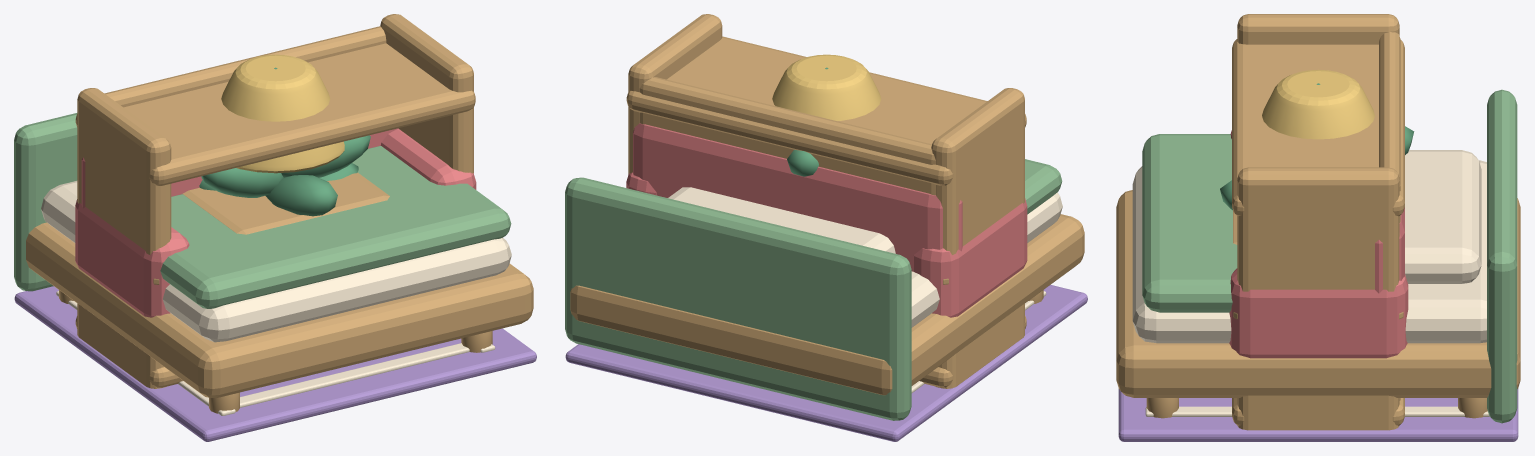
The model's file is mobler.glb.
3 renders of one model, left to right at view 1: azimuth 30°, elevation 25°; view 2: azimuth 150°, elevation 25°; view 3: azimuth 270°, elevation 25°, orthographic. The views are drawn at different scales.
Parts seen in each view (by area): view 1: mobel_sang, mobel_favorithylla, mobel_matta, mobel_soffa, mobel_lampa, mobel_vaxt, mobel_bord; view 2: mobel_sang, mobel_favorithylla, mobel_soffa, mobel_matta, mobel_lampa, mobel_vaxt; view 3: mobel_sang, mobel_favorithylla, mobel_soffa, mobel_matta, mobel_lampa, mobel_vaxt.
Part boxes in pixels (left/top/right/bottom): mobel_sang: left=14, top=113, right=533, bottom=413; mobel_favorithylla: left=75, top=14, right=475, bottom=388; mobel_matta: left=14, top=286, right=536, bottom=441; mobel_soffa: left=75, top=128, right=476, bottom=317; mobel_lampa: left=221, top=54, right=344, bottom=173; mobel_vaxt: left=199, top=67, right=370, bottom=216; mobel_bord: left=182, top=172, right=389, bottom=234; mobel_sang: left=565, top=159, right=1084, bottom=420; mobel_favorithylla: left=626, top=14, right=1026, bottom=388; mobel_soffa: left=626, top=123, right=1027, bottom=317; mobel_matta: left=565, top=285, right=1087, bottom=441; mobel_lampa: left=772, top=54, right=881, bottom=120; mobel_vaxt: left=787, top=67, right=828, bottom=176; mobel_sang: left=1116, top=89, right=1520, bottom=423; mobel_favorithylla: left=1232, top=14, right=1404, bottom=430; mobel_soffa: left=1229, top=130, right=1408, bottom=358; mobel_matta: left=1118, top=389, right=1518, bottom=441; mobel_lampa: left=1262, top=69, right=1374, bottom=139; mobel_vaxt: left=1220, top=83, right=1414, bottom=210.
Bounding box in the file's own units: 1.9 × 1.41 × 1.87.
